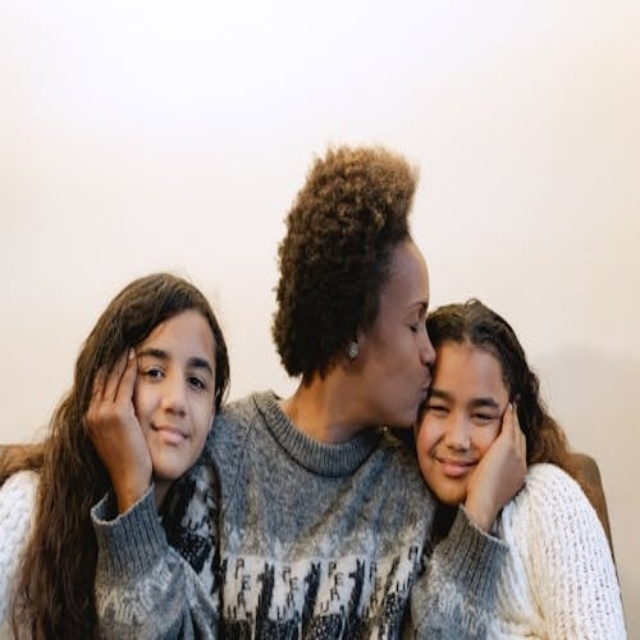Sin_gafas: (140, 345, 220, 405), (428, 385, 500, 428), (379, 297, 430, 343)
Sin_guantes: (87, 336, 154, 498), (462, 396, 529, 529)
Sin_mascara: (145, 412, 195, 470), (422, 445, 476, 494), (389, 374, 434, 423)
